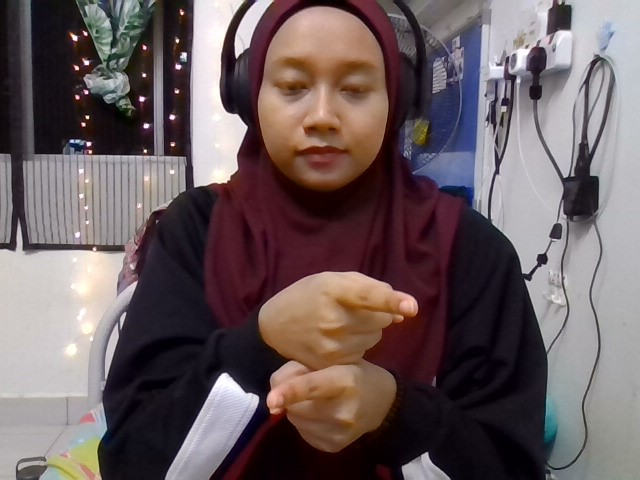Betul: (266, 271, 418, 449)
